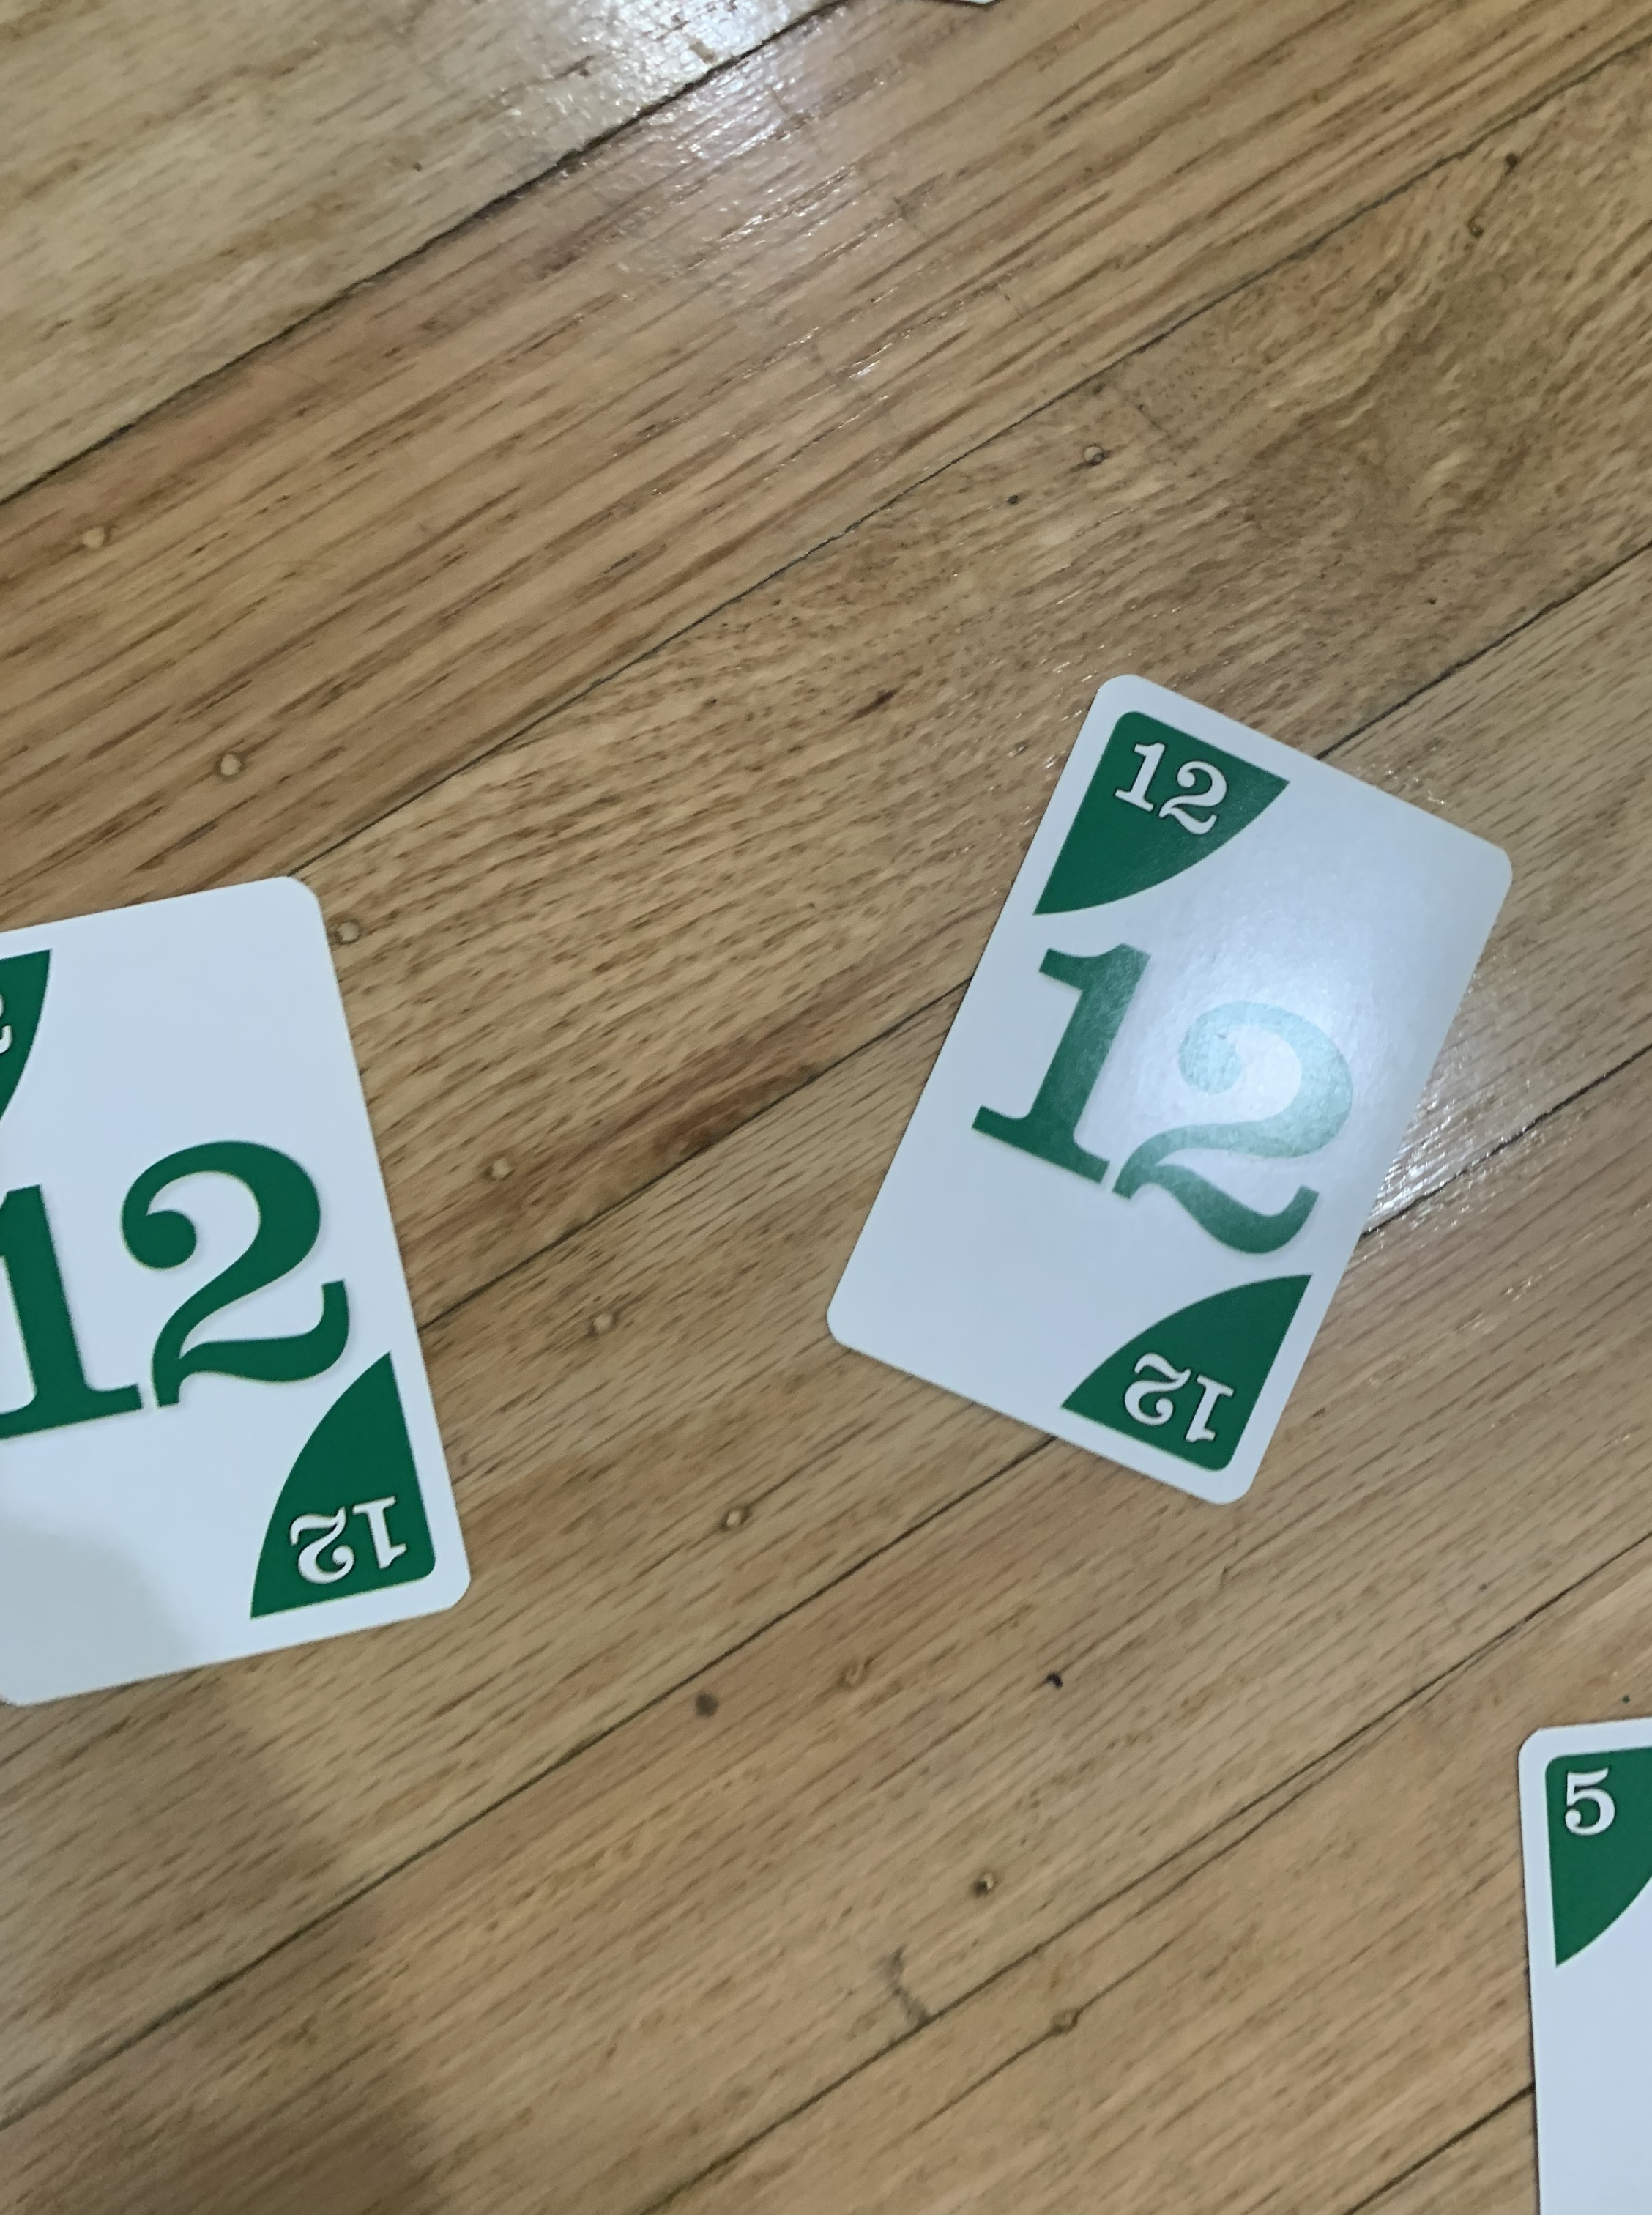twelve: (809, 679, 1532, 1529), (0, 863, 484, 1724)
